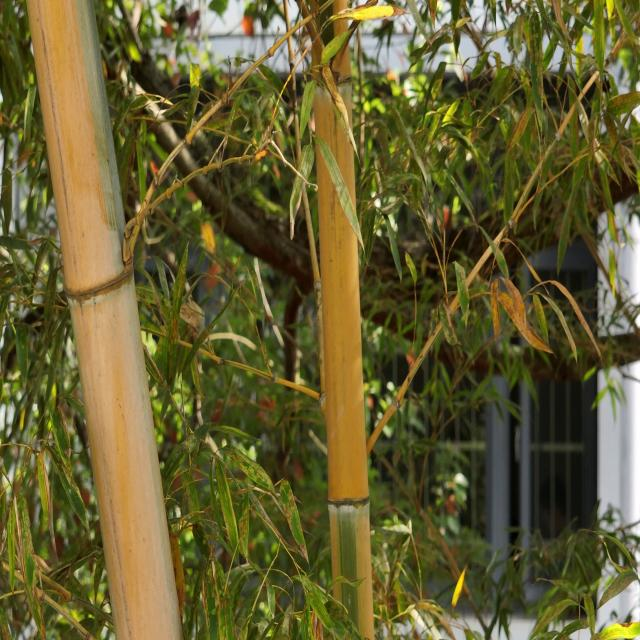Bamboo-shoots: (28, 0, 183, 640), (310, 0, 375, 640)
